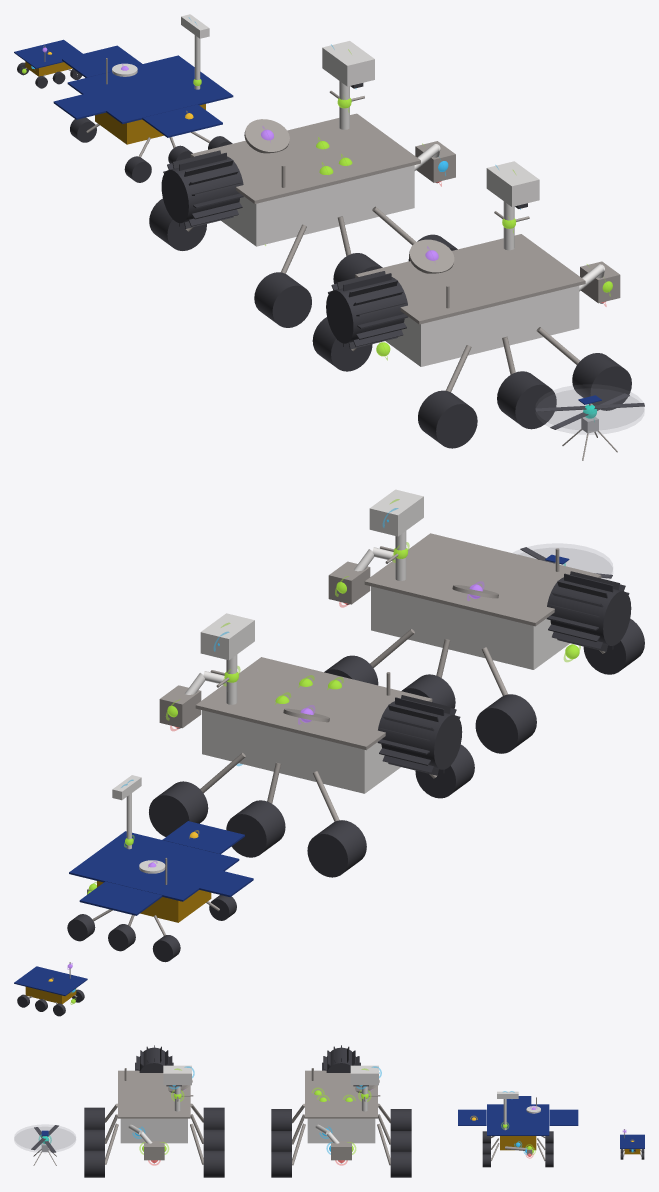
3 renders of one model, top to bottom at view 1: azimuth 30°, elevation 25°; view 2: azimuth 150°, elevation 25°; view 3: azimuth 270°, elevation 25°, orthographic. The views are drawn at different scales.
Size of what is drawn, in the model's own units: 3.43 by 2.21 by 12.14.
